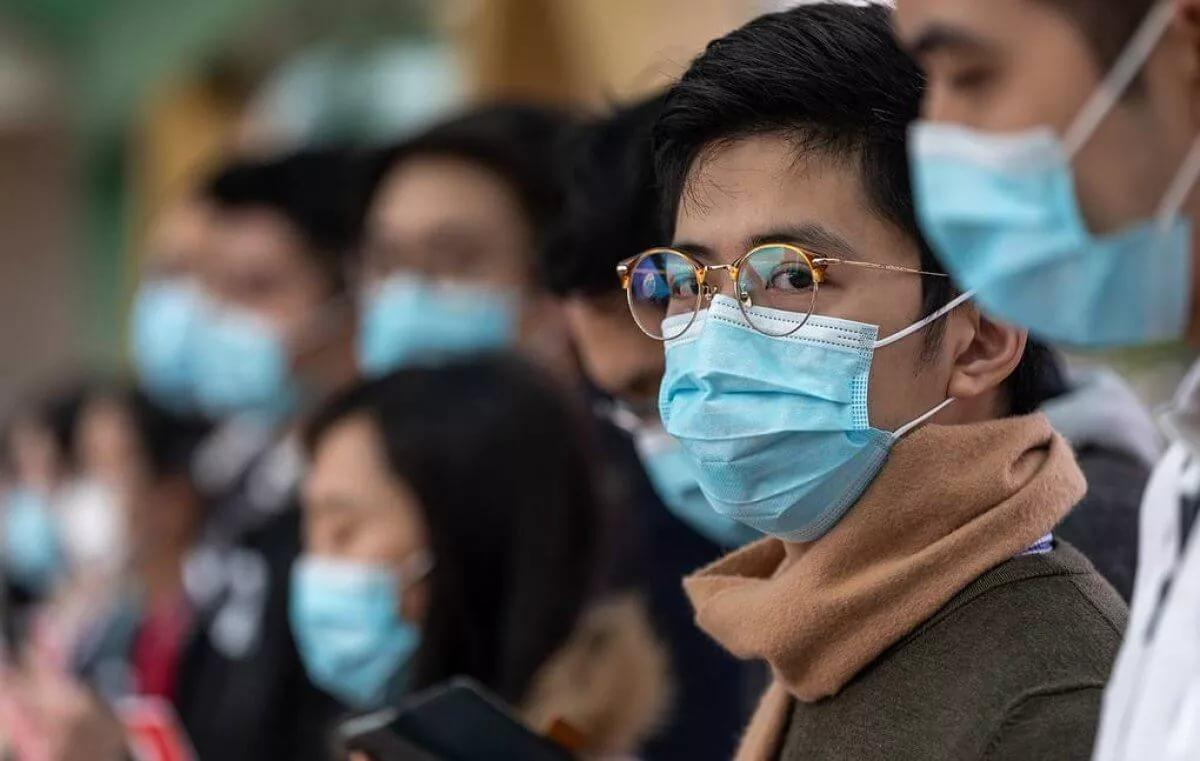mask: (635, 158, 941, 536), (894, 1, 1200, 378), (278, 412, 461, 717)
